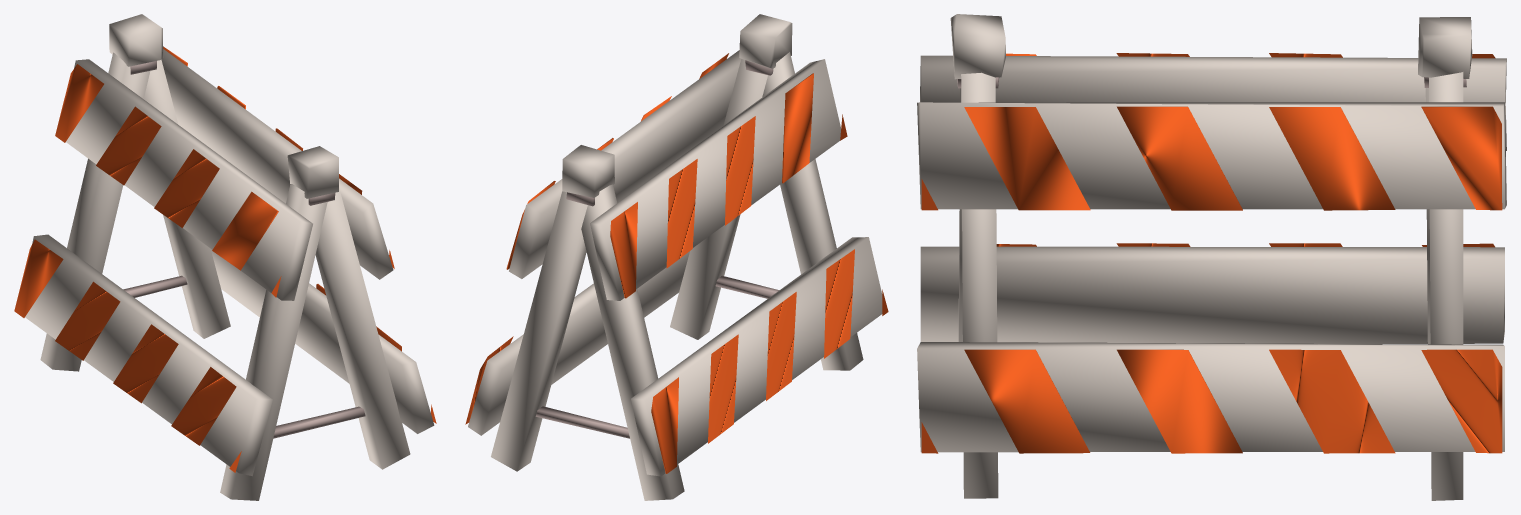
3 renders of one model, left to right at view 1: azimuth 30°, elevation 25°; view 2: azimuth 150°, elevation 25°; view 3: azimuth 270°, elevation 25°, orthographic. The views are drawn at different scales.
Bounding box in the file's own units: 1.16 × 1.8 × 2.24.
